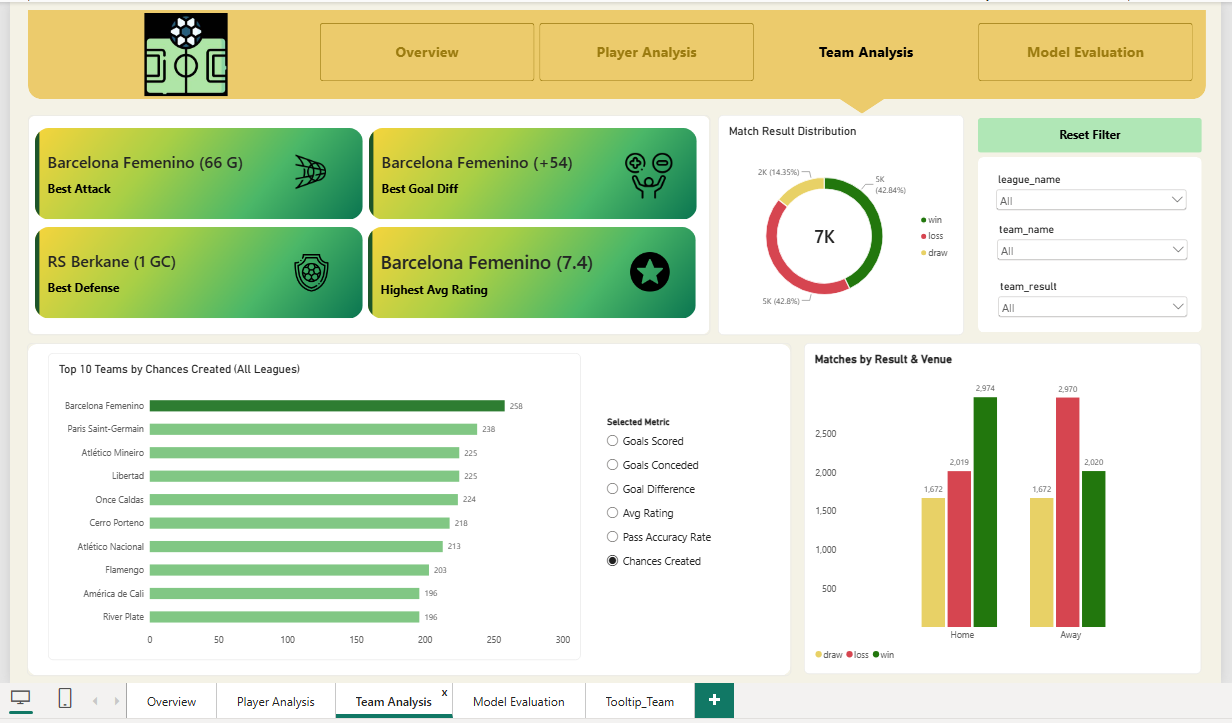

What the dashboard file says about the page in this screenshot:
{"tool":"powerbi","page":{"name":"Team Analysis","canvas":[1920,1080],"ordinal":2},"visuals":[{"type":"shape","box":[1534.7,245.8,354.9,278.1],"z":0,"group":"g2"},{"type":"shape","box":[27.7,540.8,1212.1,528.5],"z":0,"group":"g3"},{"type":"clusteredColumnChart","title":"Matches by Result & Venue","fields":{"Category":["football_players_data.Match Location"],"Series":["football_players_data.team_result"],"Y":["Measures Table.Total Matches"]},"box":[1259.7,540.8,629.9,525.4],"z":0},{"type":"shape","box":[29.2,12.3,1868.1,141.3],"z":1000,"group":"g1"},{"type":"shape","box":[29.2,179.7,1081.5,348.7],"z":1000},{"type":"slicer","fields":{"Values":["football_players_data.league_name"]},"box":[1557.8,271.2,311.7,65.8],"z":1000,"group":"g2"},{"type":"clusteredBarChart","fields":{"Category":["football_players_data.team_name"],"Y":["Measures Table.Team_Selected Dynamic Metric"]},"box":[60.4,556.7,845,487.2],"z":1000,"group":"g3"},{"type":"image","box":[142.2,16.9,276.5,132.1],"z":2000,"group":"g1"},{"type":"shape","box":[1299.7,110.6,101.4,66.1],"z":2000},{"type":"slicer","fields":{"Values":["football_players_data.team_result"]},"box":[1561.8,440.7,310.1,74.3],"z":2000,"group":"g2"},{"type":"slicer","fields":{"Values":["Metric Selection Team.MetricName"]},"box":[940.4,657.9,283.3,279.3],"z":2000,"group":"g3"},{"type":"pageNavigator","box":[492.9,32.2,1385,92],"z":3000,"group":"g1"},{"type":"cardVisual","fields":{"Data":["Measures Table.Best Attack"]},"box":[40,200,520,145],"z":3000},{"type":"cardVisual","fields":{"Data":["Measures Table.Card Best Goal Diff"]},"box":[570,199.7,520,145],"z":4000},{"type":"cardVisual","fields":{"Data":["Measures Table.Card Best Defense2"]},"box":[40,356.9,520,145],"z":5000},{"type":"slicer","fields":{"Values":["football_players_data.team_name"]},"box":[1560.3,351,311.7,71.6],"z":6000,"group":"g2"},{"type":"cardVisual","fields":{"Data":["Measures Table.Card Highest Avg Rating"]},"box":[567.7,356.9,520,145],"z":6000},{"type":"donutChart","title":"Match Result Distribution","fields":{"Y":["Measures Table.Total Matches"],"Category":["football_players_data.team_result"]},"box":[1123,179.7,390.2,348.7],"z":7000},{"type":"group","id":"g1","title":"Group 4","box":[29.2,12.3,1868.1,141.3],"z":8000},{"type":"group","id":"g2","title":"Group 3","box":[1534.7,245.8,354.9,278.1],"z":9000},{"type":"group","id":"g3","title":"Group 1","box":[27.7,540.8,1212.1,528.5],"z":10000},{"type":"actionButton","box":[1535,183.3,355,55],"z":11000},{"type":"image","box":[970.9,238.1,84.5,75.3],"z":12000},{"type":"image","box":[444,399.4,67.6,59.9],"z":13000},{"type":"image","box":[975.5,396.4,79.9,63],"z":14000},{"type":"image","box":[437.8,225.8,73.7,87.6],"z":15000}]}

Visuals, with their boxes on the page's 1920x1080 design canvas (x1, y1, x2, y2). These are canvas units, not pixel positions in the 1232x723 screenshot, which may show the page scaled, cropped or inside an application window:
shape: (left=1535, top=246, right=1890, bottom=524)
shape: (left=28, top=541, right=1240, bottom=1069)
"Matches by Result & Venue" clusteredColumnChart: (left=1260, top=541, right=1890, bottom=1066)
shape: (left=29, top=12, right=1897, bottom=154)
shape: (left=29, top=180, right=1111, bottom=528)
slicer - football_players_data.league_name: (left=1558, top=271, right=1870, bottom=337)
clusteredBarChart - football_players_data.team_name x Measures Table.Team_Selected Dynamic Metric: (left=60, top=557, right=905, bottom=1044)
image: (left=142, top=17, right=419, bottom=149)
shape: (left=1300, top=111, right=1401, bottom=177)
slicer - football_players_data.team_result: (left=1562, top=441, right=1872, bottom=515)
slicer - Metric Selection Team.MetricName: (left=940, top=658, right=1224, bottom=937)
pageNavigator: (left=493, top=32, right=1878, bottom=124)
cardVisual - Measures Table.Best Attack: (left=40, top=200, right=560, bottom=345)
cardVisual - Measures Table.Card Best Goal Diff: (left=570, top=200, right=1090, bottom=345)
cardVisual - Measures Table.Card Best Defense2: (left=40, top=357, right=560, bottom=502)
slicer - football_players_data.team_name: (left=1560, top=351, right=1872, bottom=423)
cardVisual - Measures Table.Card Highest Avg Rating: (left=568, top=357, right=1088, bottom=502)
"Match Result Distribution" donutChart: (left=1123, top=180, right=1513, bottom=528)
"Group 4" group: (left=29, top=12, right=1897, bottom=154)
"Group 3" group: (left=1535, top=246, right=1890, bottom=524)
"Group 1" group: (left=28, top=541, right=1240, bottom=1069)
actionButton: (left=1535, top=183, right=1890, bottom=238)
image: (left=971, top=238, right=1055, bottom=313)
image: (left=444, top=399, right=512, bottom=459)
image: (left=976, top=396, right=1055, bottom=459)
image: (left=438, top=226, right=512, bottom=313)
